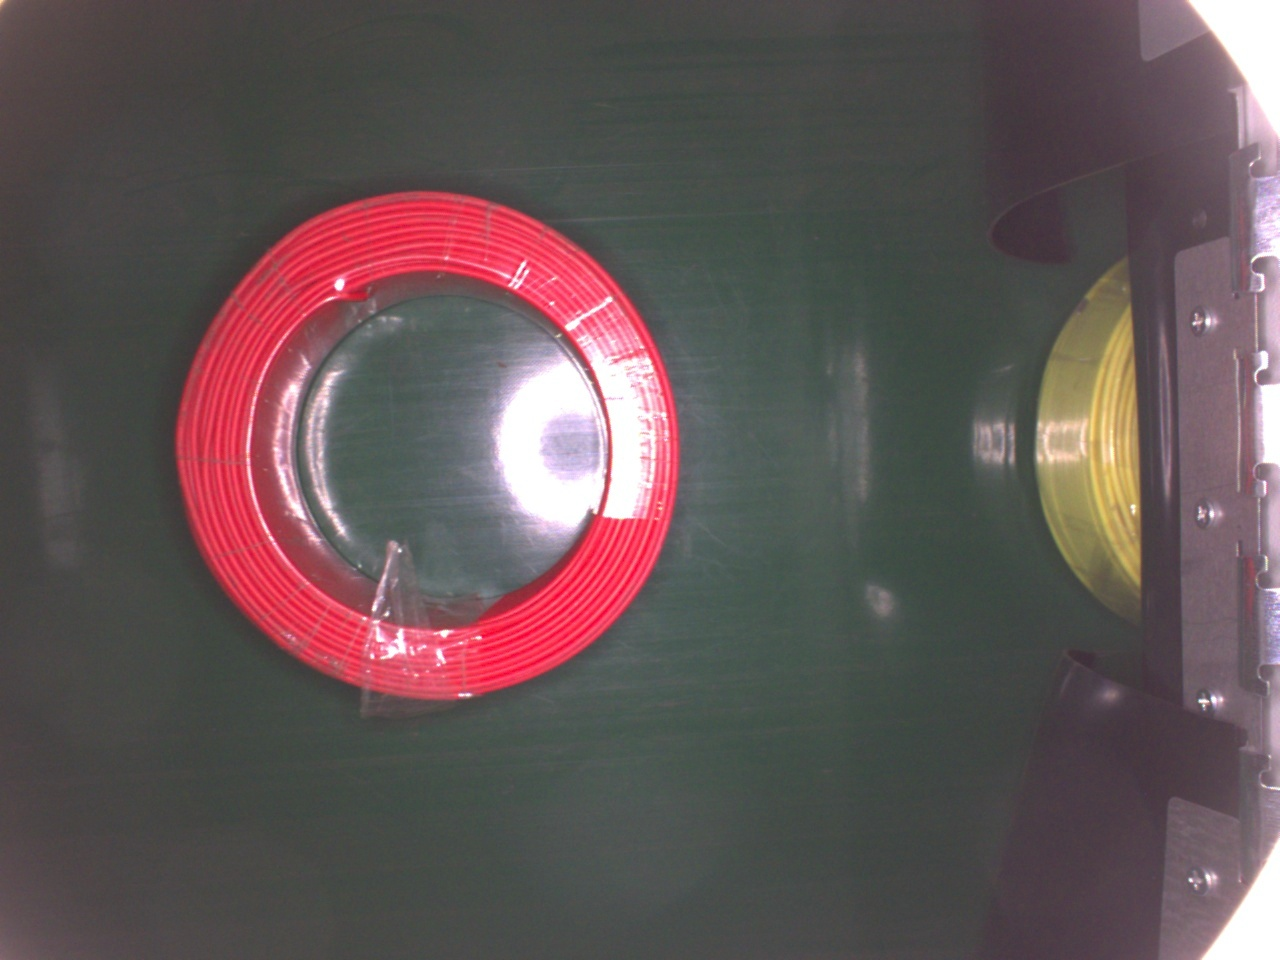red: (172, 192, 682, 704)
